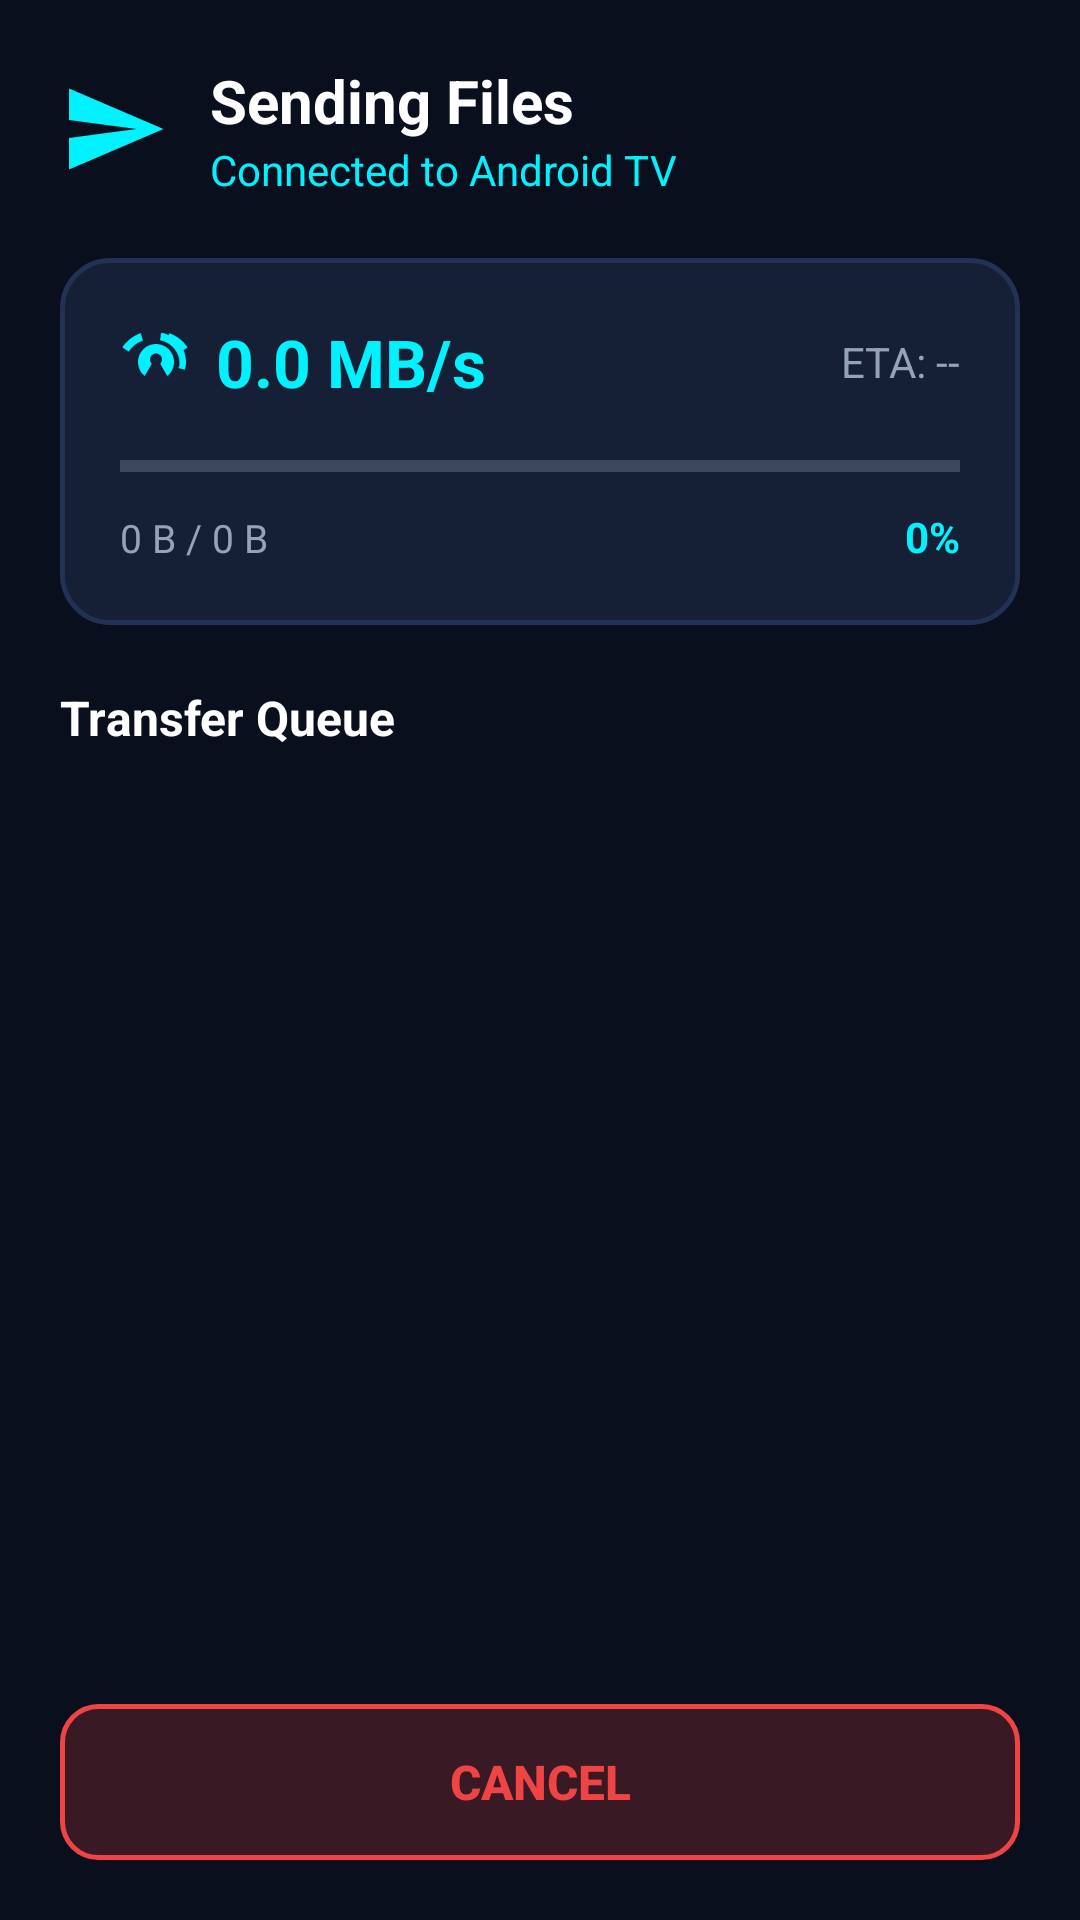

Screen size 1080px x 1920px. Icon name, then its box in pixels as (x1, y1, x2, y2):
speed: (122, 332, 188, 376)
